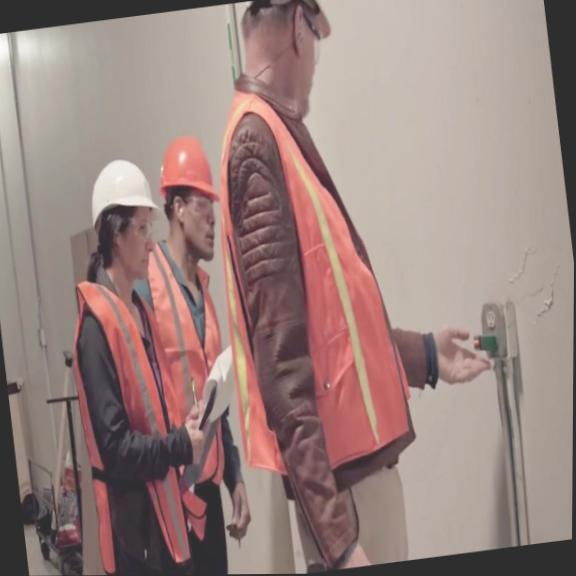safety_vest: (197, 67, 424, 486), (61, 271, 194, 576), (142, 230, 241, 492)
